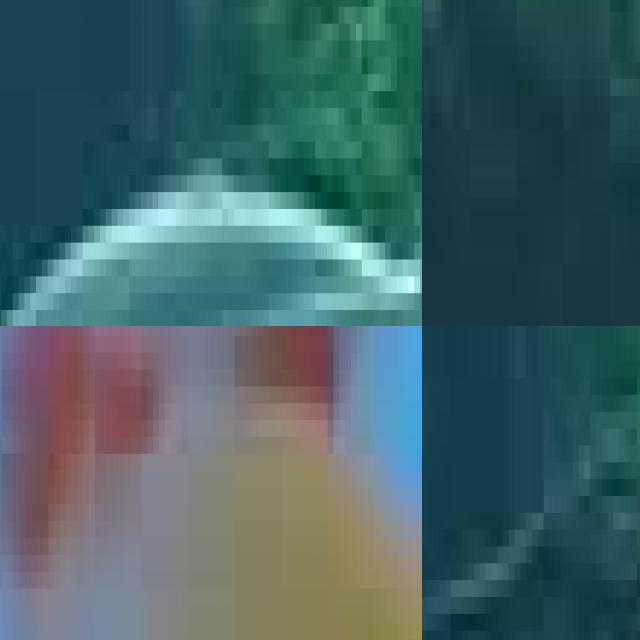fish: (0, 7, 422, 326), (95, 326, 422, 571)
